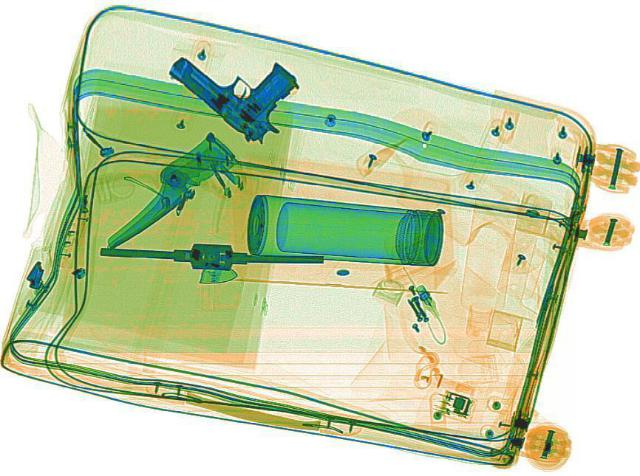Gun: (154, 24, 330, 145)
